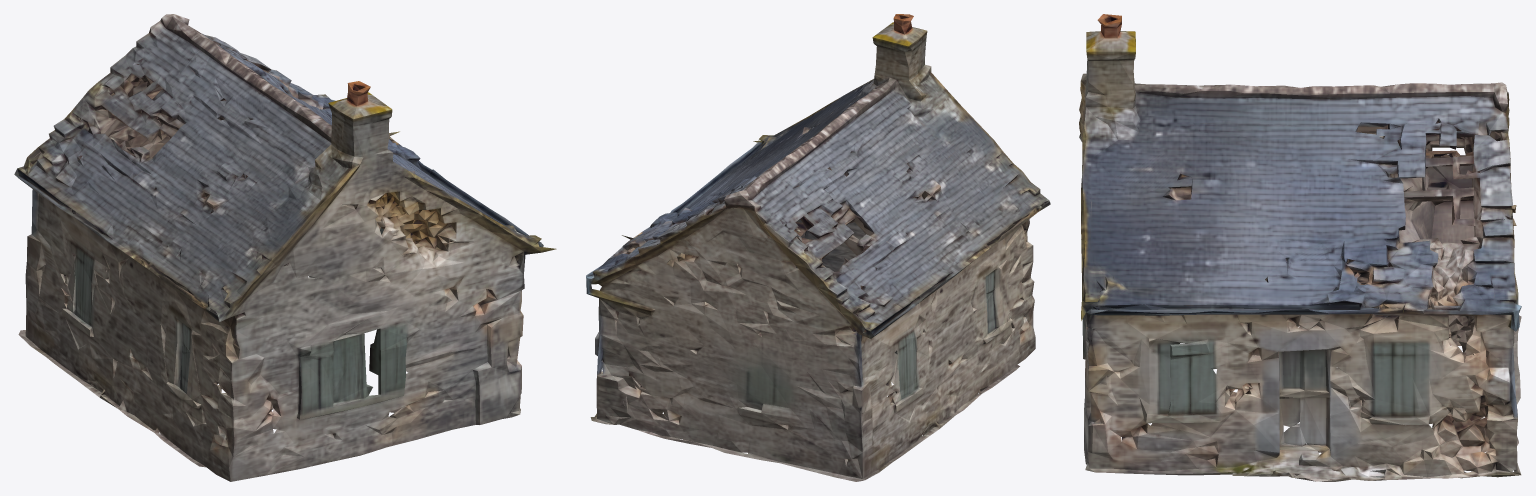
File: cottage.obj
The picture shows the model from 3 angles, left to right: view 1: azimuth 30°, elevation 25°; view 2: azimuth 150°, elevation 25°; view 3: azimuth 270°, elevation 25°; orthographic projection. The views are drawn at different scales.
Visible parts, largest first — view 1: cottage; view 2: cottage; view 3: cottage.
Part boxes in pixels (<box>): cottage: <box>14,14,556,481</box>; cottage: <box>586,14,1050,481</box>; cottage: <box>1079,14,1521,481</box>.
Size of the model in its own units: 8.41 by 8.51 by 9.
Materials: 1 (1 with a texture image).
